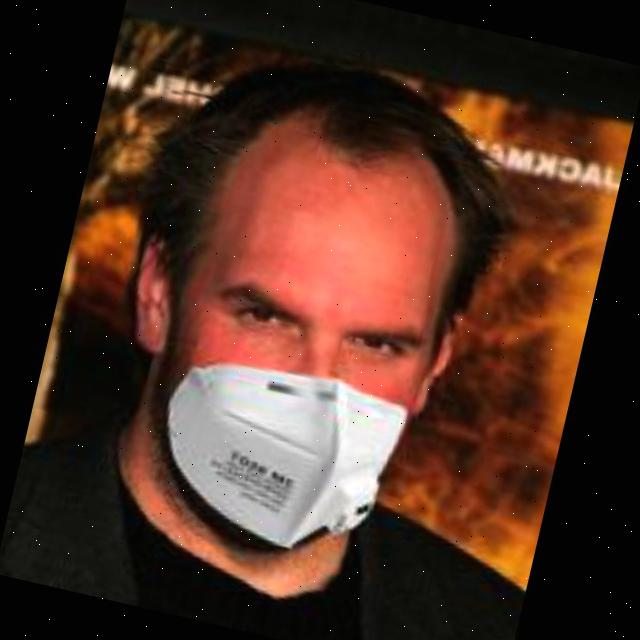suspicion: (86, 108, 532, 588)
